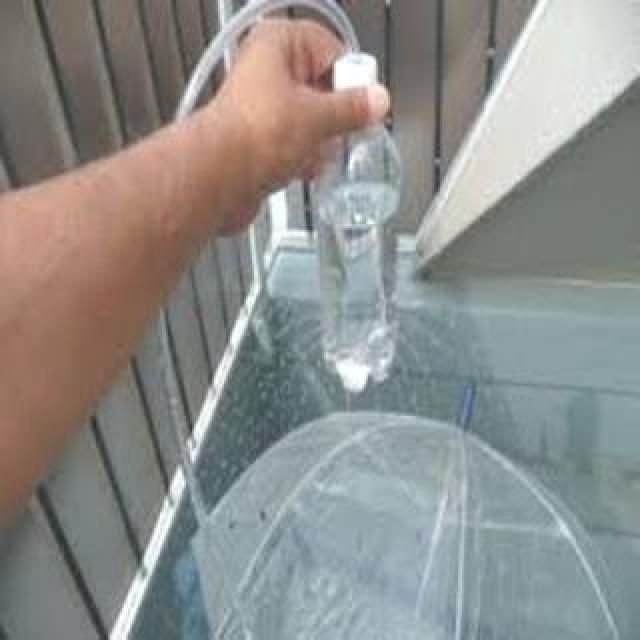Pet_Bottle: (320, 57, 404, 403)
